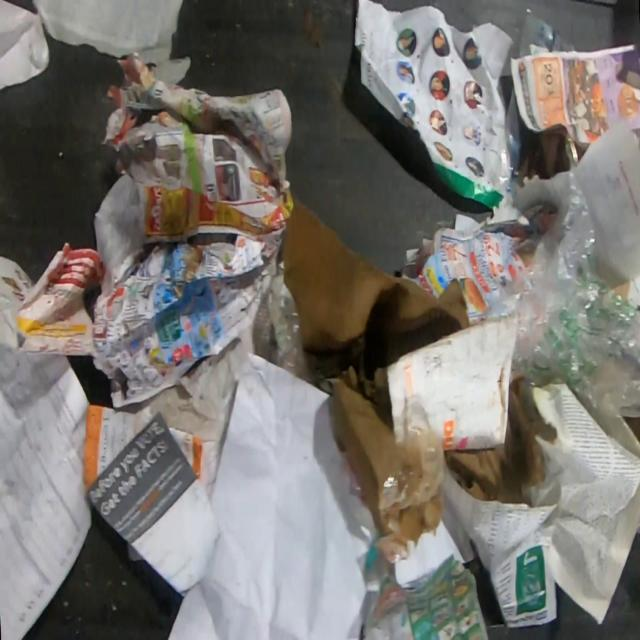cardboard: (282, 196, 470, 544), (386, 318, 515, 451), (444, 374, 556, 505)
soft_plastic: (486, 172, 640, 420), (517, 7, 581, 58), (503, 83, 532, 190)
